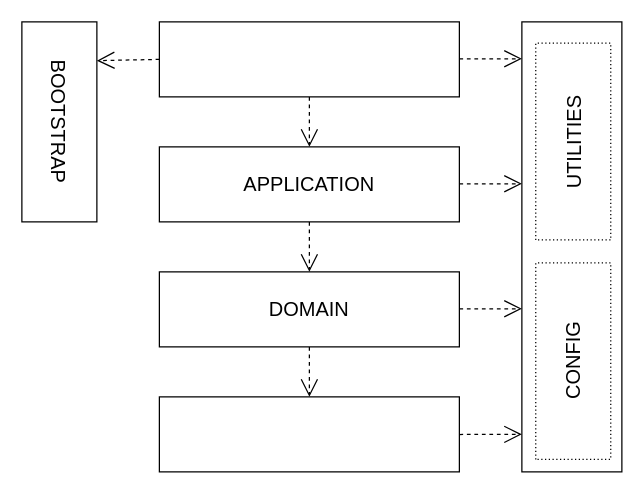
Image size: 644x494. Some labels were removed from this diagram. The box of each missing label's shape, as (x1, y1, x2, y2) in pixels:
INFRASTRUCTURE: (158, 396, 459, 472)
INTERFACE: (158, 21, 459, 97)
